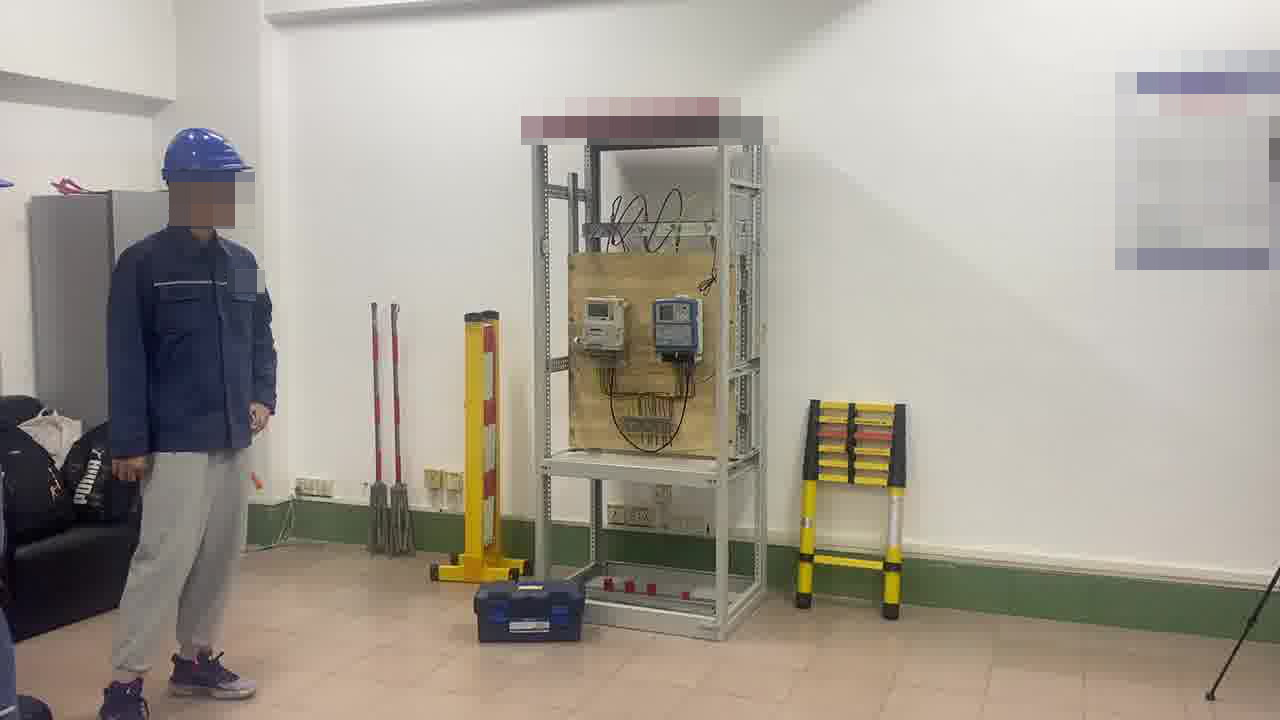downcloth: (109, 472, 254, 673)
halt: (161, 128, 251, 233)
hand: (110, 451, 146, 487), (247, 402, 275, 435)
person: (77, 124, 284, 698)
upsuit: (105, 228, 275, 460)
